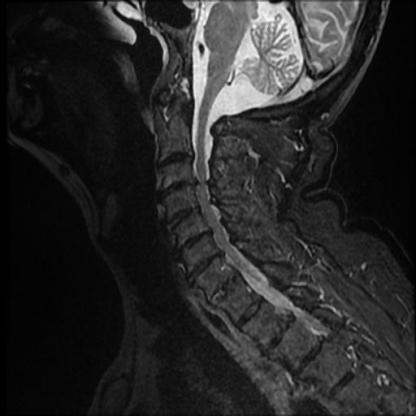Disc Bulgerotation: (169, 235, 217, 252), (161, 208, 203, 227), (181, 260, 230, 276), (156, 181, 199, 199), (157, 152, 191, 168)
Disc Protrusionrotation: (157, 152, 191, 168)
